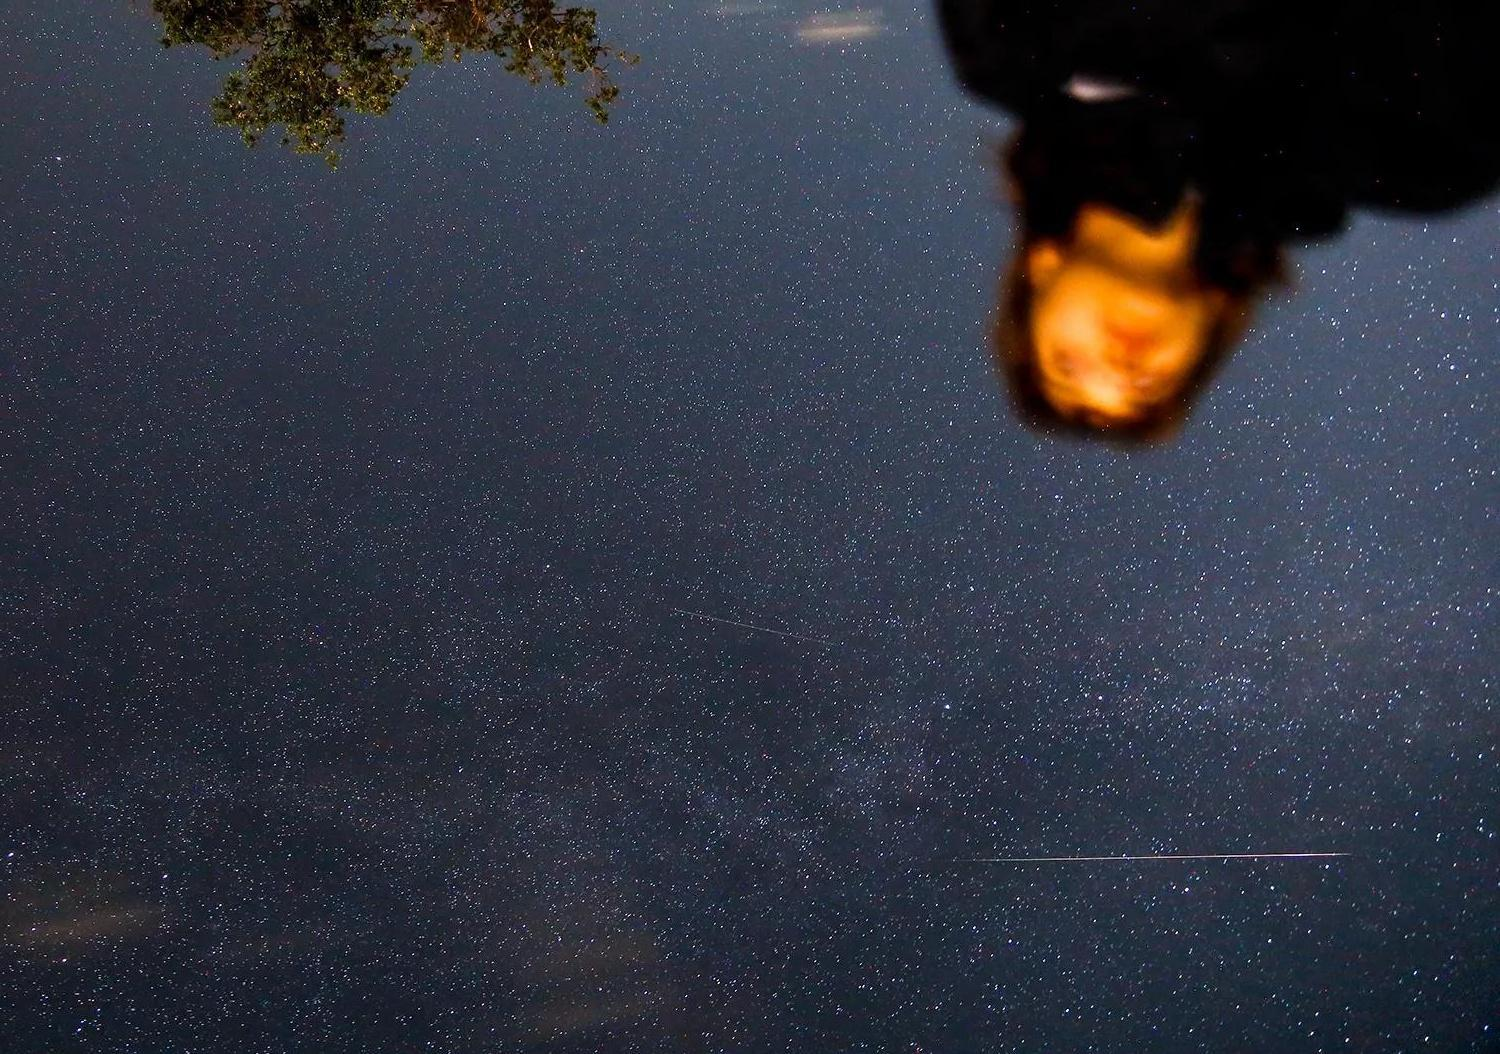meteorite: (952, 834, 1373, 885), (660, 573, 866, 673)
